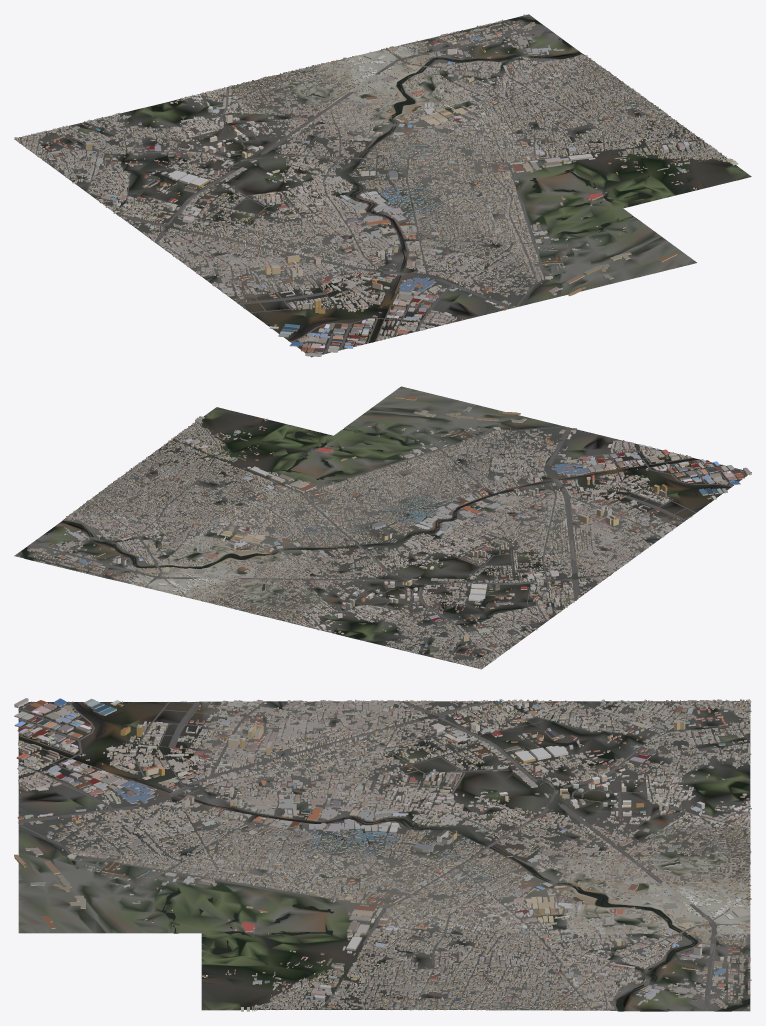
The picture shows the model from 3 angles, top to bottom: view 1: azimuth 30°, elevation 25°; view 2: azimuth 150°, elevation 25°; view 3: azimuth 270°, elevation 25°; orthographic projection. The views are drawn at different scales.
Parts seen in each view (by area): view 1: buildings, ground, roads, water; view 2: buildings, ground, roads, water; view 3: ground, buildings, roads, water.
Part boxes in pixels (x1,y1,x2,y2): buildings: (14,14,738,356); ground: (14,14,751,357); roads: (15,26,723,354); water: (152,17,652,340); buildings: (18,396,751,669); ground: (14,386,751,669); roads: (29,425,746,668); water: (21,427,730,607); ground: (18,701,750,1011); buildings: (14,698,751,1011); roads: (18,700,750,1011); water: (28,702,750,1011).
Size of the model in its own units: 5678 by 86.29 by 5650.
